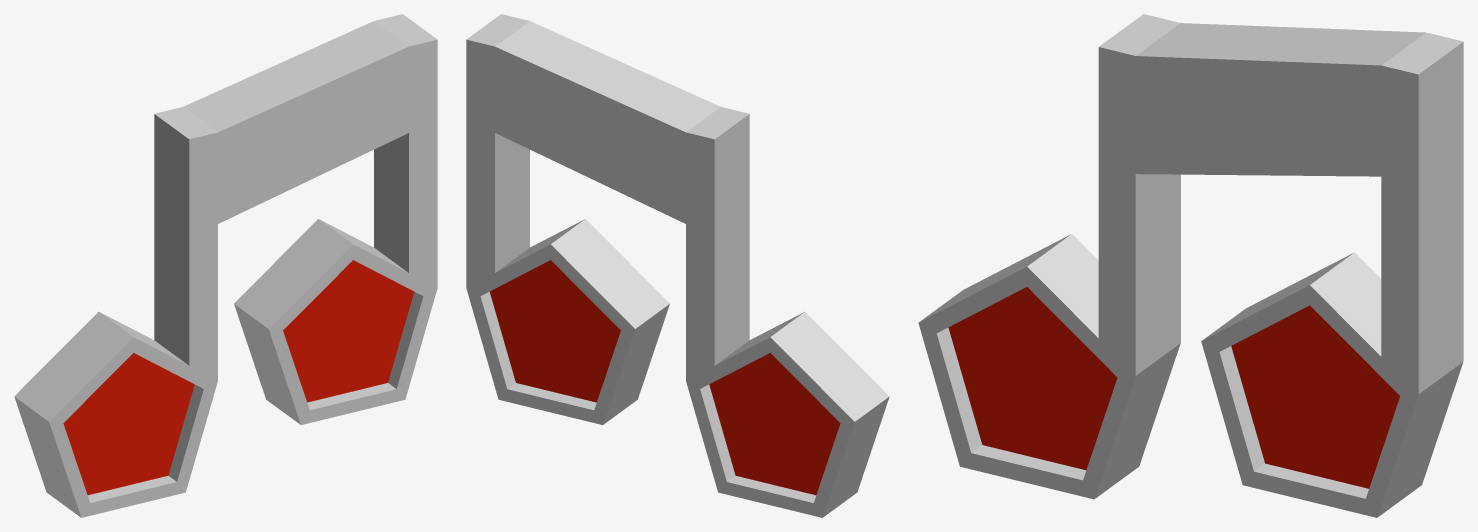
The model's file is octava.fbx.
3 renders of one model, left to right at view 1: azimuth 30°, elevation 25°; view 2: azimuth 150°, elevation 25°; view 3: azimuth 330°, elevation 25°, orthographic. The views are drawn at different scales.
Parts seen in each view (by area): view 1: octavo; view 2: octavo; view 3: octavo.
Boxes of the visible parts, x1,y1,x2,y2 form: octavo: [14, 14, 437, 517]; octavo: [466, 14, 889, 517]; octavo: [918, 14, 1463, 517].
Size of the model in its own units: 437 by 421 by 68.2.
